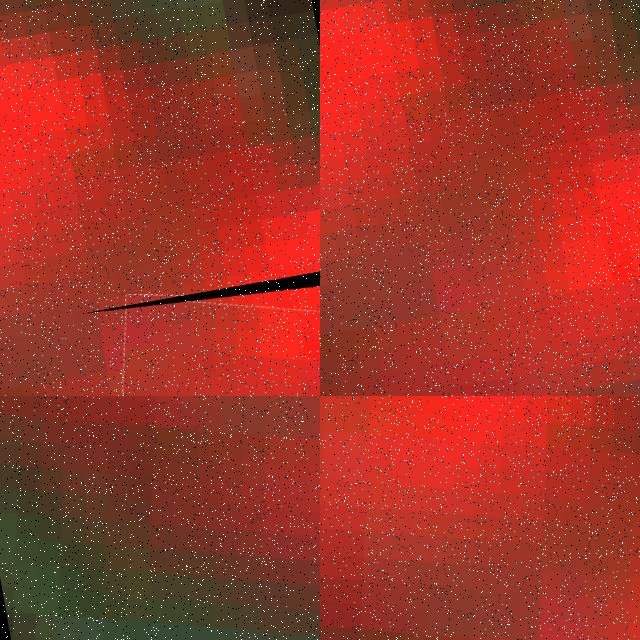drone: (0, 396, 320, 640), (320, 396, 640, 640), (84, 264, 320, 396)
